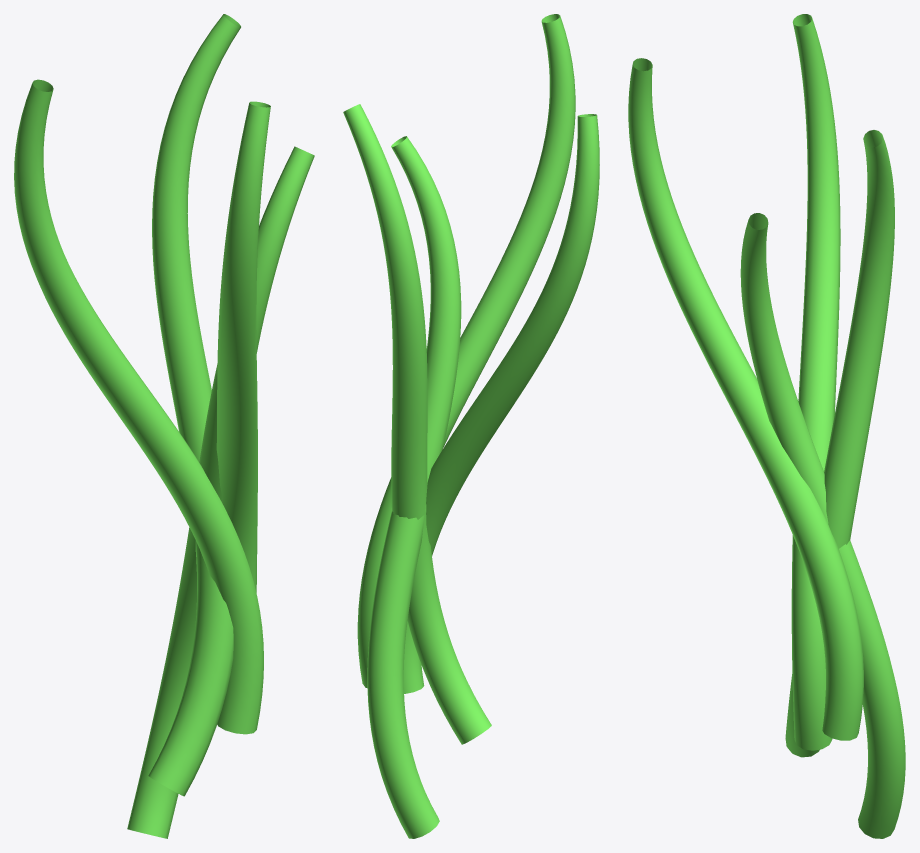
The model's file is plantin.fbx.
3 renders of one model, left to right at view 1: azimuth 30°, elevation 25°; view 2: azimuth 150°, elevation 25°; view 3: azimuth 270°, elevation 25°, orthographic. The views are drawn at different scales.
Parts seen in each view (by area): view 1: NurbsPath.024; view 2: NurbsPath.024; view 3: NurbsPath.024.
Part boxes in pixels (bbox=[...]): NurbsPath.024: bbox=[14, 14, 314, 838]; NurbsPath.024: bbox=[343, 14, 599, 838]; NurbsPath.024: bbox=[628, 14, 905, 838].
Size of the model in its own units: 7.04 by 21.37 by 7.03.
